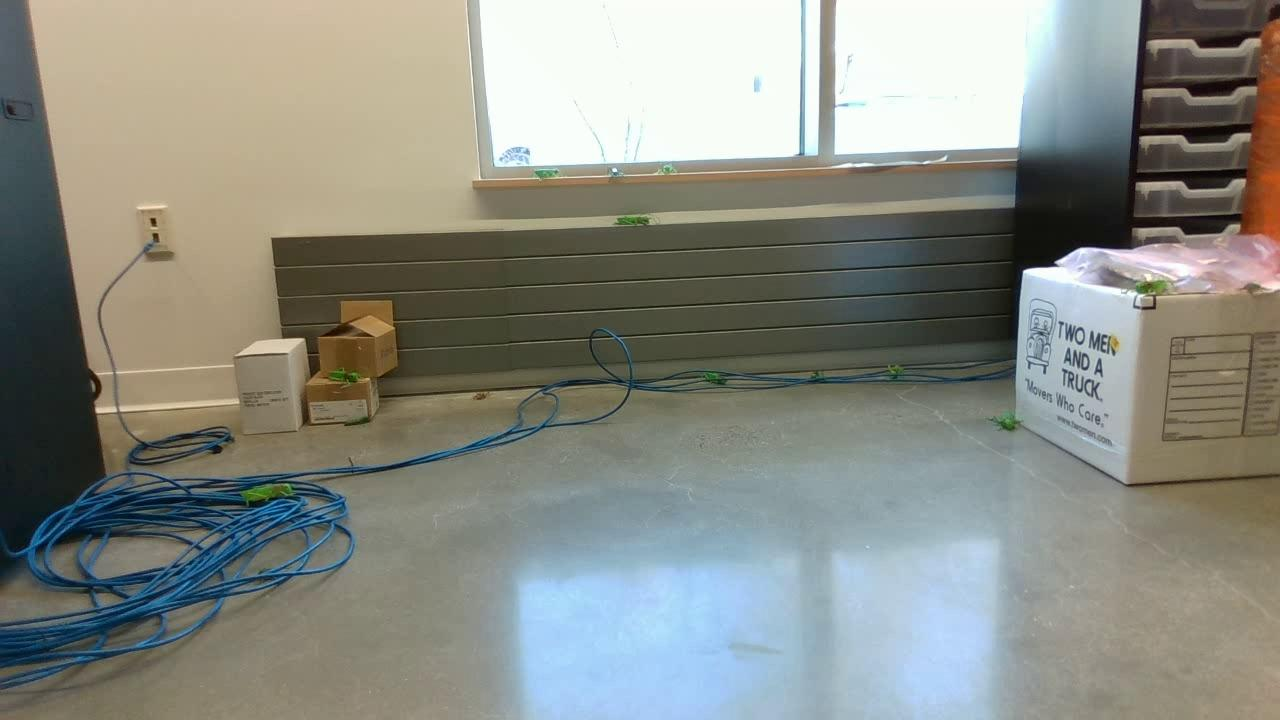grasshopper: (238, 478, 303, 510), (985, 409, 1023, 437), (610, 213, 656, 227), (650, 160, 681, 178), (319, 370, 358, 383), (692, 373, 733, 385), (528, 167, 559, 182), (883, 362, 904, 379)
